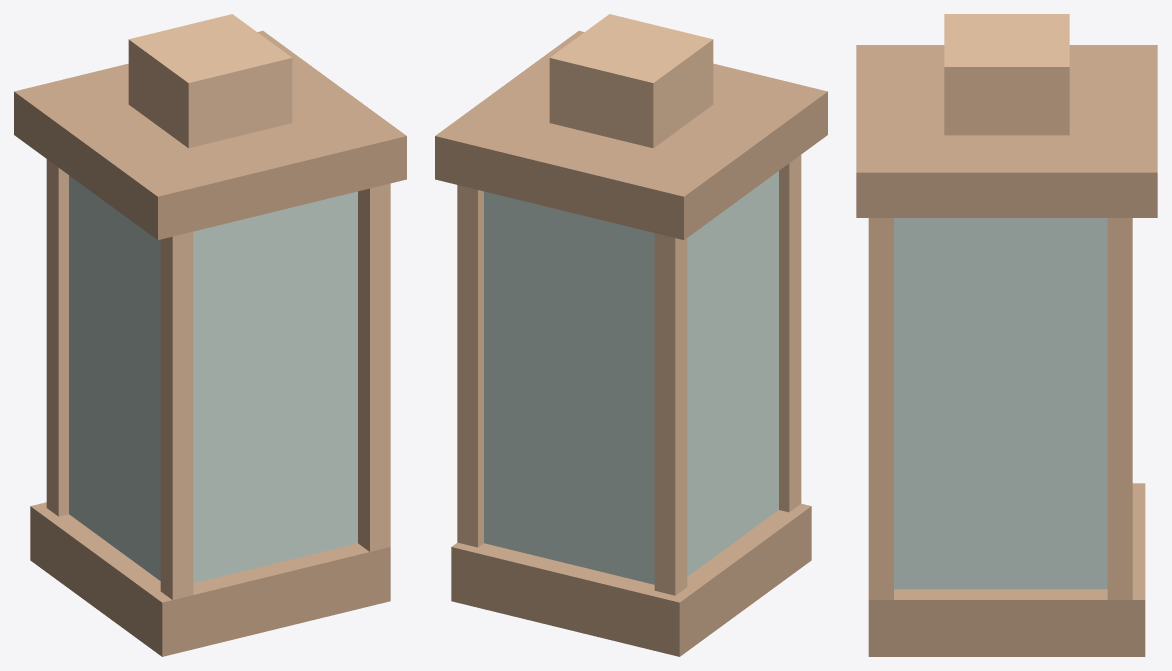
The model's file is lanternFloor.glb.
The picture shows the model from 3 angles, left to right: view 1: azimuth 30°, elevation 25°; view 2: azimuth 150°, elevation 25°; view 3: azimuth 270°, elevation 25°; orthographic projection. The views are drawn at different scales.
Parts seen in each view (by area): view 1: lanternFloor; view 2: lanternFloor; view 3: lanternFloor.
Part boxes in pixels (left/top/right/bottom): lanternFloor: left=14, top=14, right=406, bottom=656; lanternFloor: left=435, top=14, right=827, bottom=656; lanternFloor: left=856, top=14, right=1157, bottom=656.
Size of the model in its own units: 0.24 by 0.49 by 0.24.
